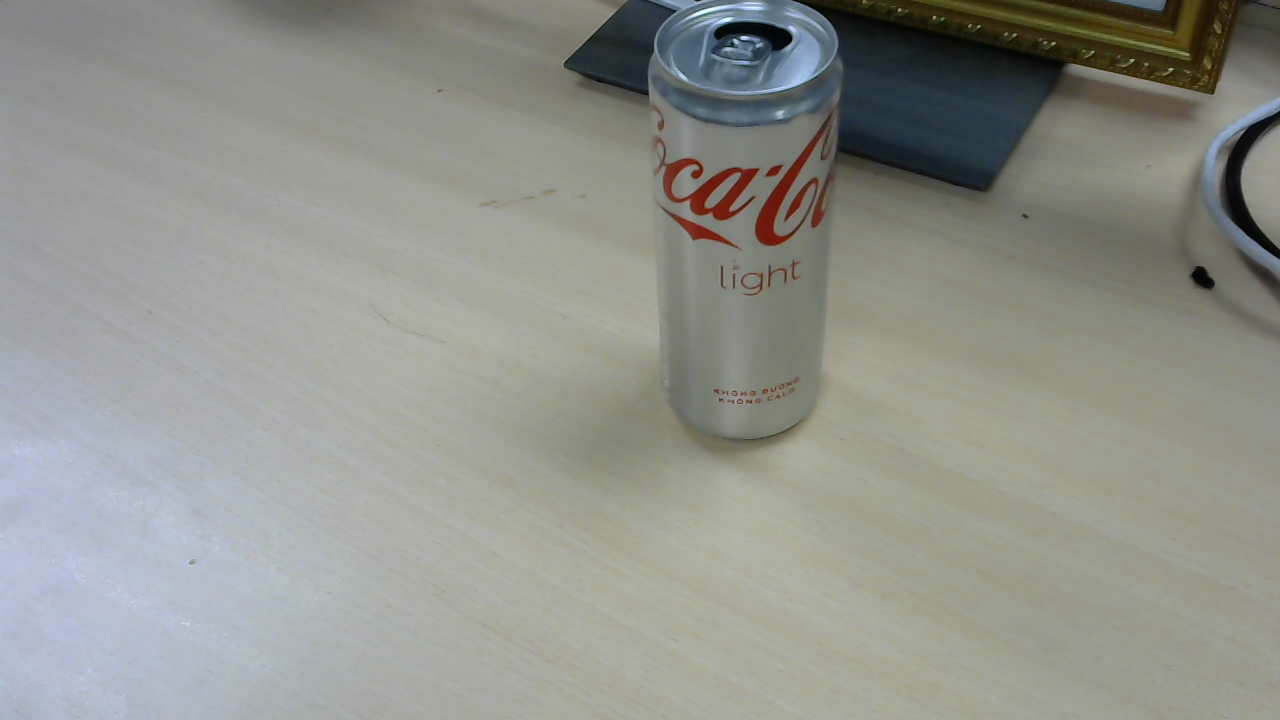Coca_Cola: (649, 4, 853, 448)
